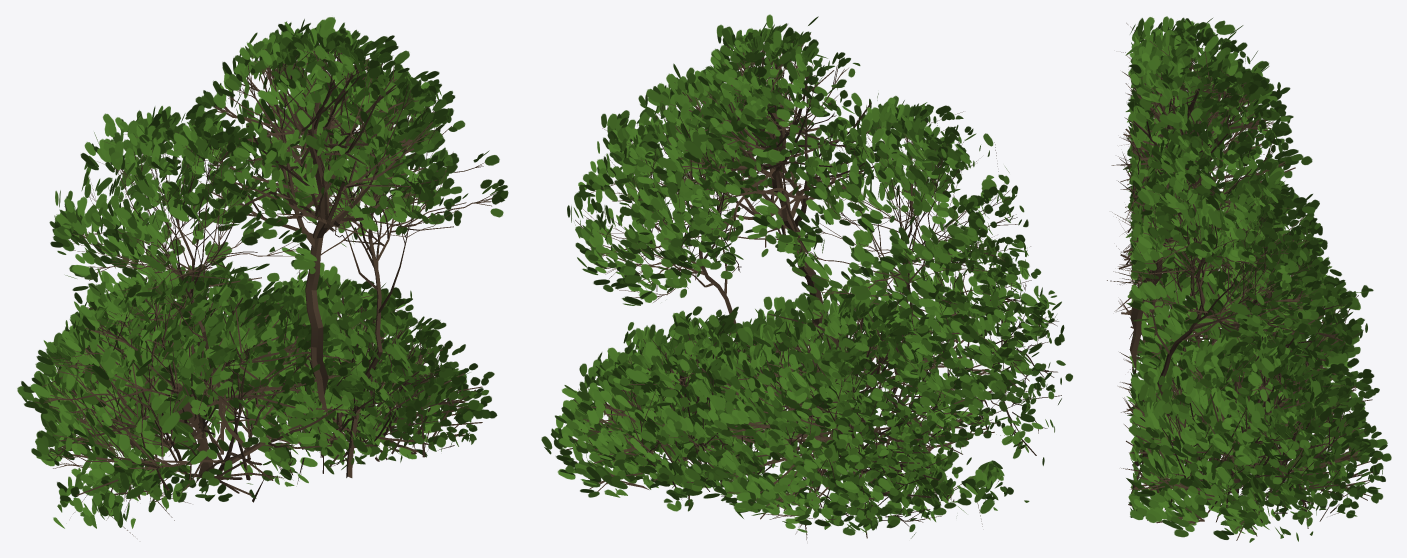
3 renders of one model, left to right at view 1: azimuth 30°, elevation 25°; view 2: azimuth 150°, elevation 25°; view 3: azimuth 270°, elevation 25°, orthographic. The views are drawn at different scales.
Parts seen in each view (by area): view 1: oak 01.001_trunk_Mat.001_0.434; view 2: oak 01.001_trunk_Mat.001_0.434; view 3: oak 01.001_trunk_Mat.001_0.434.
Boxes of the visible parts, x1=… form: oak 01.001_trunk_Mat.001_0.434: x1=17, y1=17, x2=508, y2=535; oak 01.001_trunk_Mat.001_0.434: x1=541, y1=14, x2=1072, y2=539; oak 01.001_trunk_Mat.001_0.434: x1=1107, y1=16, x2=1391, y2=542.
Bounding box in the file's own units: 3.88 × 3.56 × 2.08.
2 materials, 1 textured.
